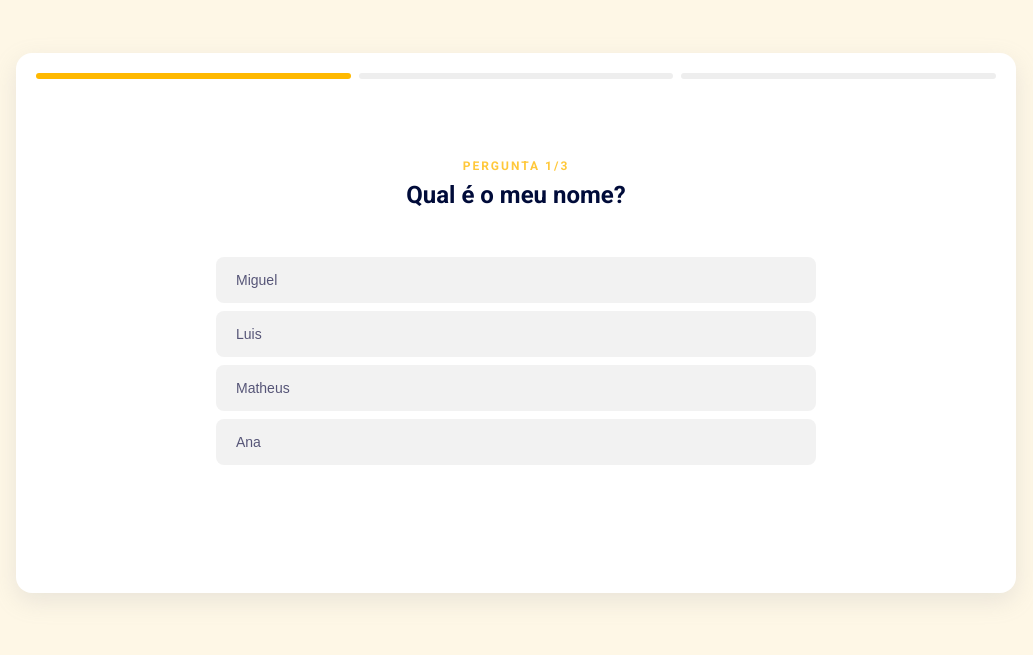
Scenario: Quiz App › can go to the next question
Expected: the heading reads "Qual é o meu nome?", [406,181,626,209]
Click the button "Matheus": {"x": 263, "y": 388} [216,365,816,411]
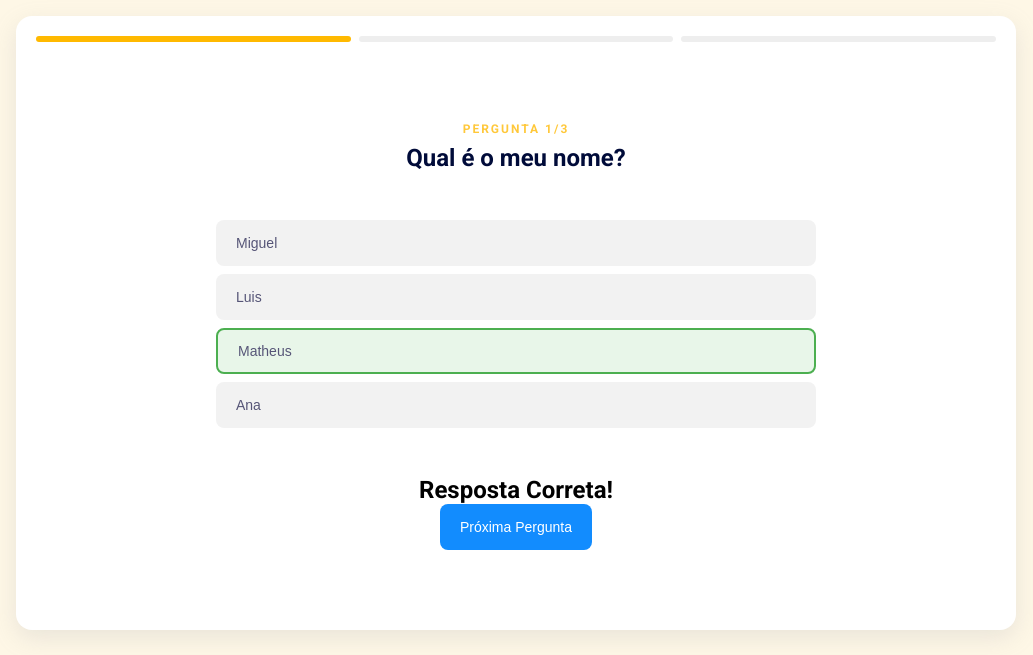
Click the button "Próxima Pergunta": {"x": 516, "y": 527} [440,504,592,550]
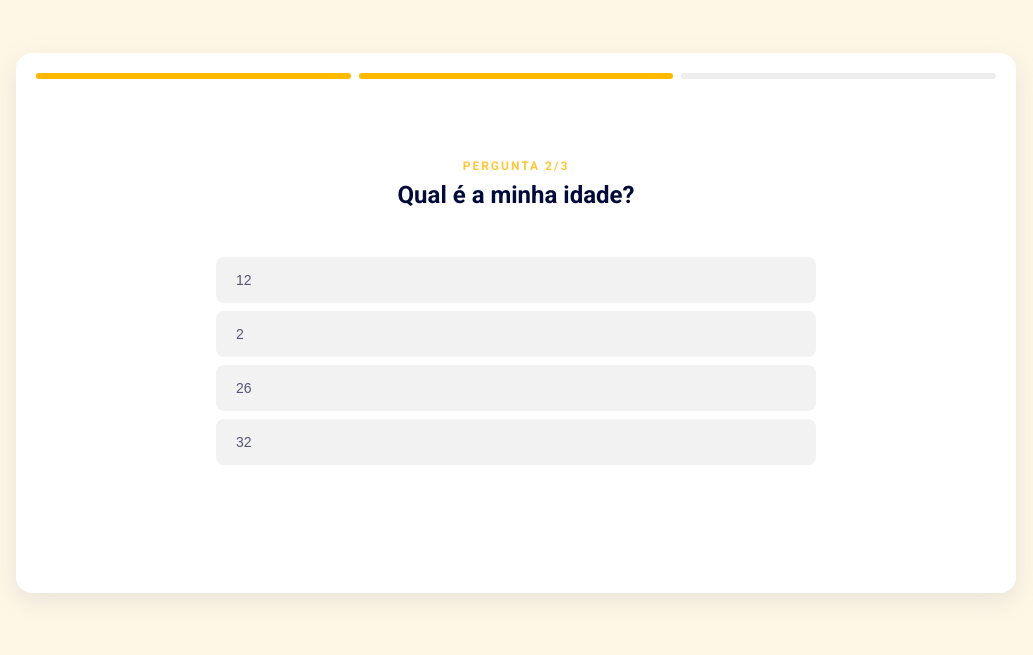
Result: the heading reads "Qual é a minha idade?" at [398,181,634,209]
